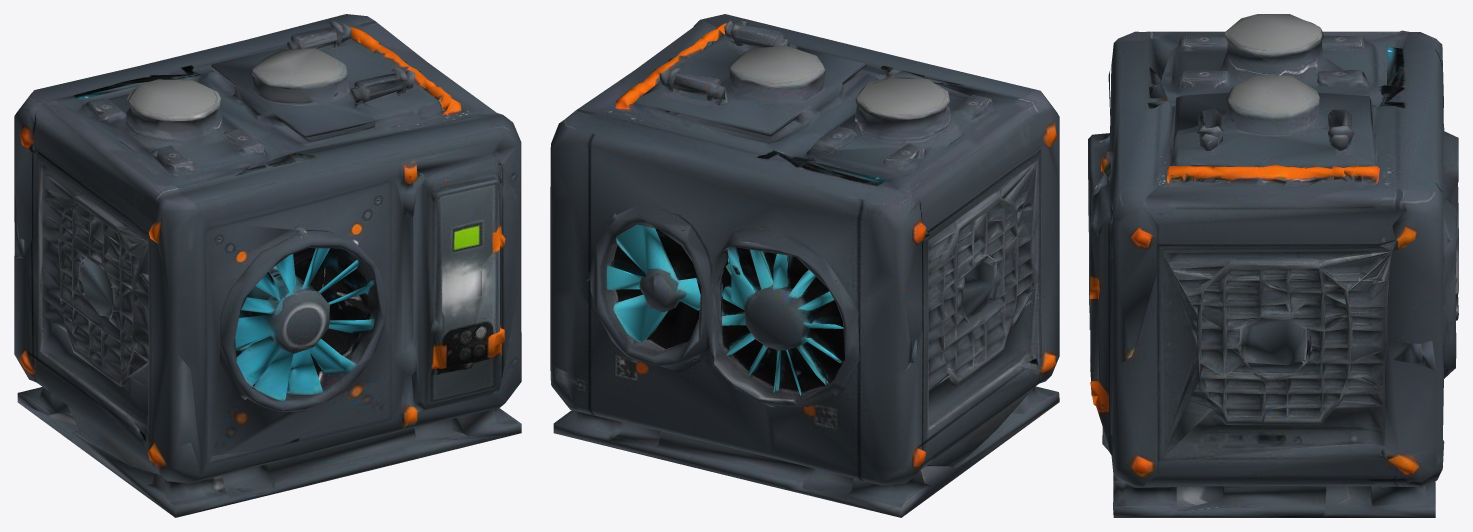
File: industrial_ventilation_unit.glb
3 renders of one model, left to right at view 1: azimuth 30°, elevation 25°; view 2: azimuth 150°, elevation 25°; view 3: azimuth 270°, elevation 25°, orthographic. The views are drawn at different scales.
Size of the model in its own units: 1.89 by 1.73 by 1.64.
Materials: 1 (1 with a texture image).
